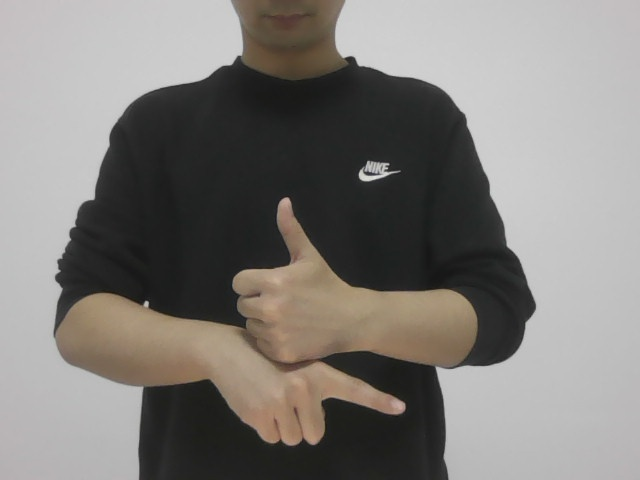birthday: (204, 202, 416, 446)
